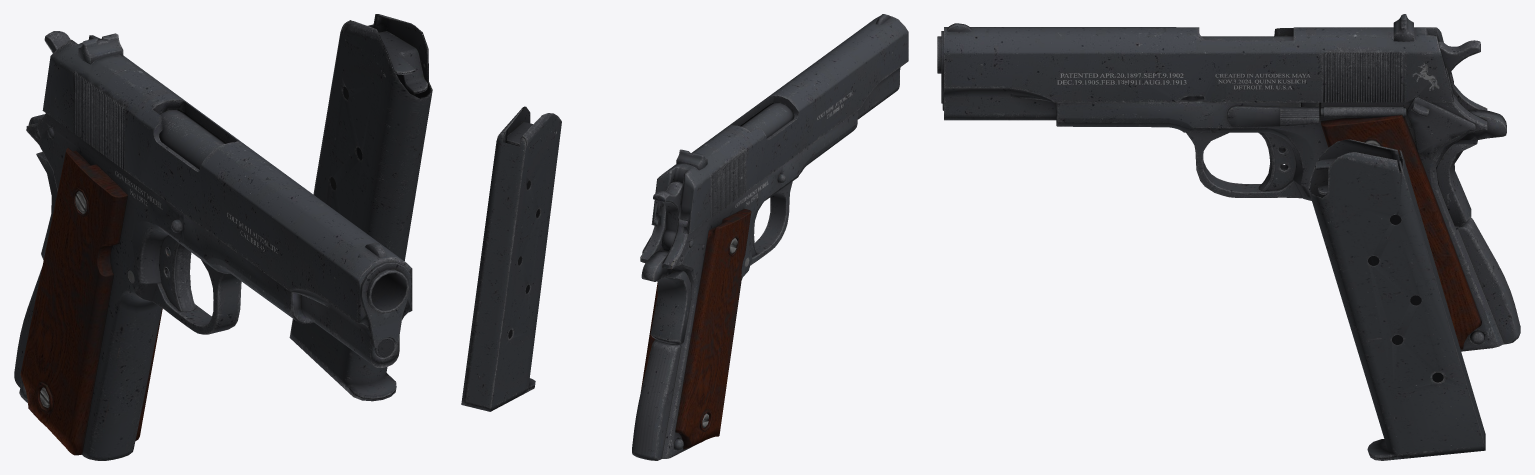
3 views of the same model, side by side, from view 1: azimuth 30°, elevation 25°; view 2: azimuth 150°, elevation 25°; view 3: azimuth 270°, elevation 25° (orthographic). The views are drawn at different scales.
Visible parts, largest first — view 1: Slide_low, Magazine_low, Frame_low, Handles_low, Barrel_low, Trigger_low, SlideCover_low, Grip_low, WristGaurd_low, Screws_low; view 2: Magazine_low, Slide_low, Handles_low, Frame_low, Grip_low, WristGaurd_low, Hammer_low, Barrel_low; view 3: Slide_low, Magazine_low, Frame_low, Handles_low, Grip_low, WristGaurd_low, EmptyLockButton_low, EmptyLock_low, Trigger_low, EmptyLockMechanism_low, Hammer_low, Barrel_low.
Boxes of the visible parts, x1,y1,x2,y2 form: Slide_low: [42, 33, 412, 367]; Magazine_low: [289, 14, 432, 401]; Frame_low: [19, 113, 313, 460]; Handles_low: [20, 147, 162, 455]; Barrel_low: [159, 109, 408, 313]; Trigger_low: [159, 235, 195, 312]; SlideCover_low: [360, 262, 411, 347]; Grip_low: [14, 267, 42, 387]; WristGaurd_low: [28, 114, 57, 259]; Screws_low: [21, 127, 182, 407]; Magazine_low: [461, 106, 561, 411]; Slide_low: [651, 14, 908, 233]; Handles_low: [641, 209, 751, 449]; Frame_low: [640, 111, 857, 458]; Grip_low: [632, 339, 680, 460]; WristGaurd_low: [641, 250, 691, 344]; Hammer_low: [653, 181, 682, 250]; Barrel_low: [741, 103, 794, 138]; Slide_low: [942, 14, 1453, 120]; Magazine_low: [1308, 139, 1485, 460]; Frame_low: [1056, 67, 1504, 351]; Handles_low: [1321, 115, 1481, 349]; Grip_low: [1458, 217, 1520, 344]; WristGaurd_low: [1436, 109, 1506, 226]; EmptyLockButton_low: [1407, 97, 1475, 157]; EmptyLock_low: [1227, 102, 1319, 127]; Trigger_low: [1258, 132, 1296, 191]; EmptyLockMechanism_low: [1320, 106, 1406, 117]; Hammer_low: [1438, 40, 1480, 101]; Barrel_low: [937, 36, 1293, 73].
Size of the model in its own units: 31.02 by 37.66 by 60.18.
3 materials, 3 textured.
